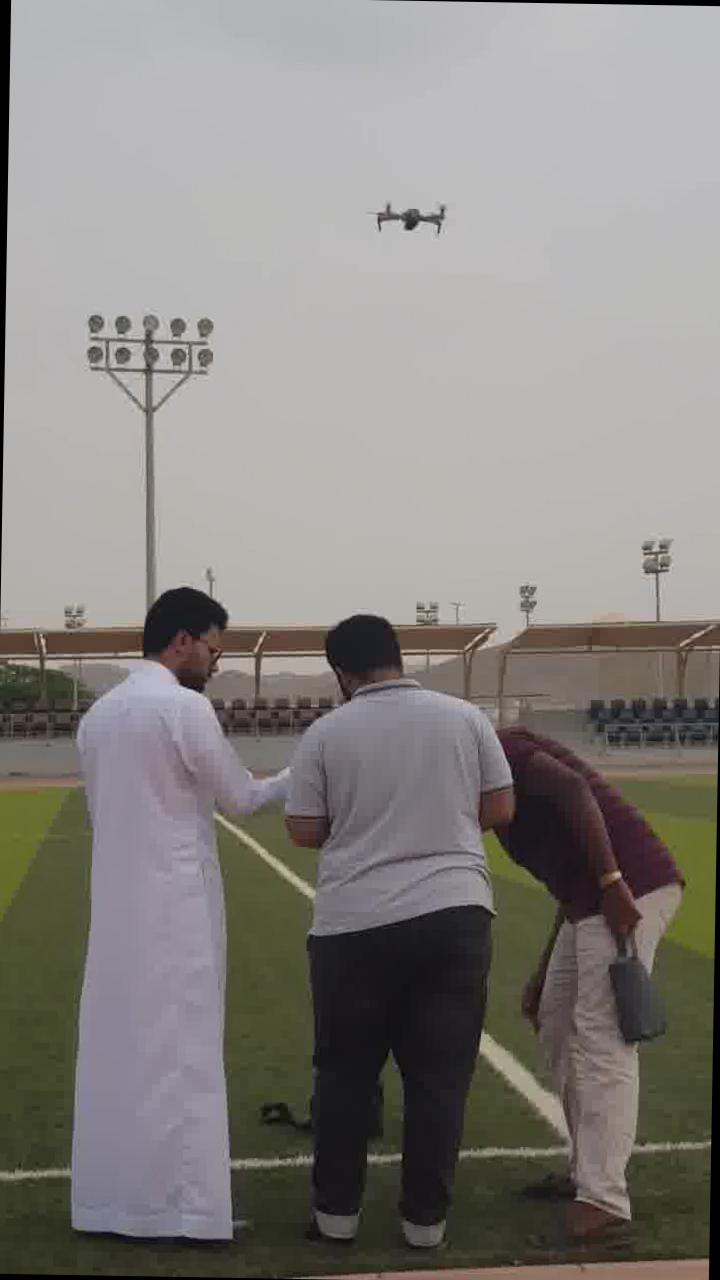drone: (366, 190, 456, 240)
